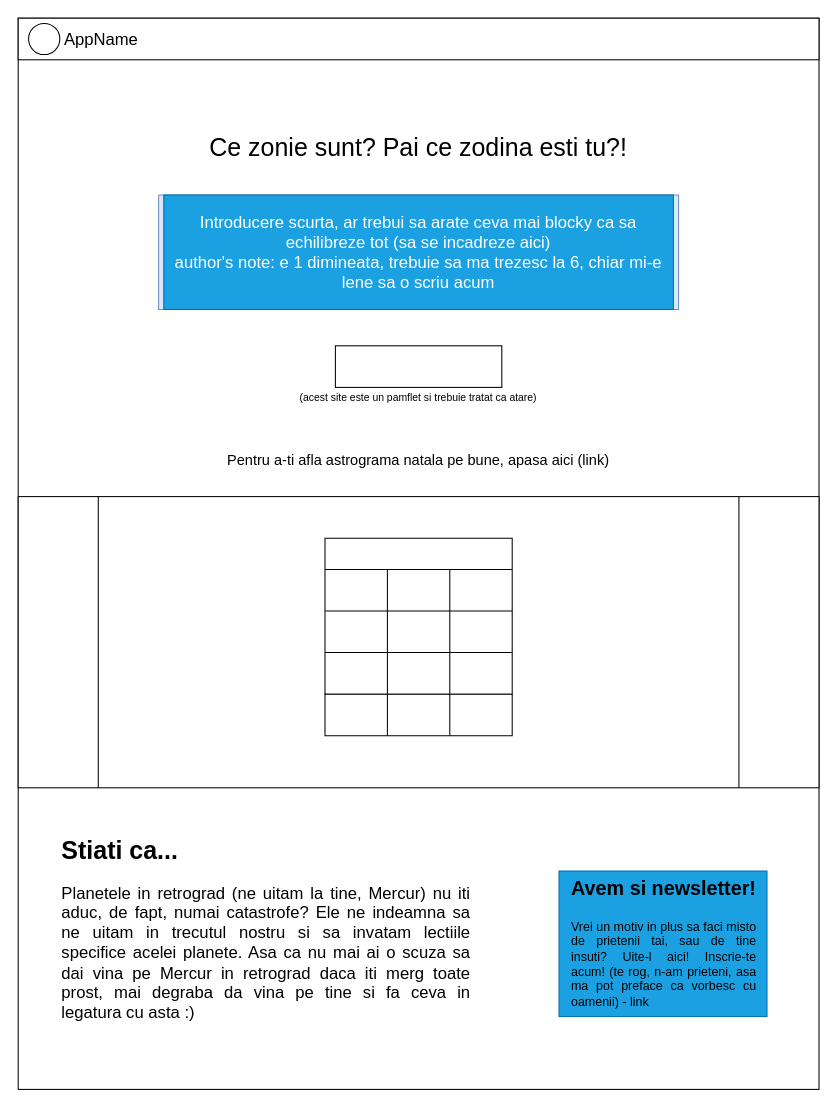
Some shapes in this 837 by 1108 pixel diagram are drawn without their labels. Here are the shapes that lost their labels. From the top down, the centre of each, then its label:
At pixel 418 366: "Afla zodina ta acum!".
At pixel 418 615: "Zodinele".
